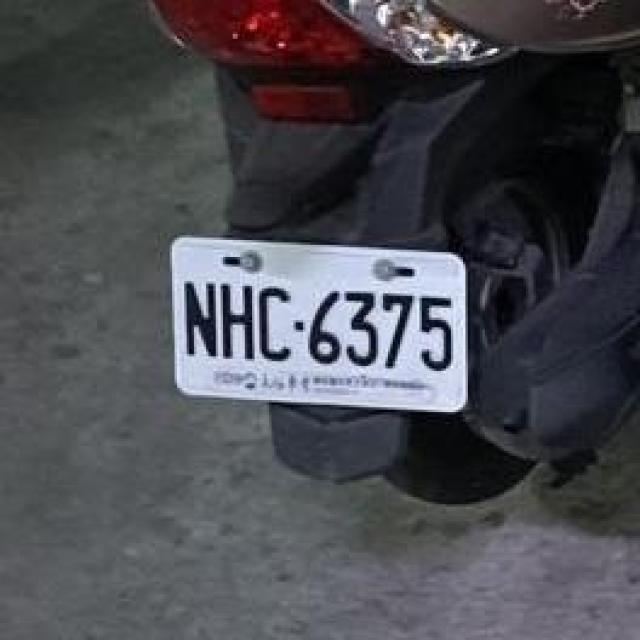W: (158, 228, 478, 419)
